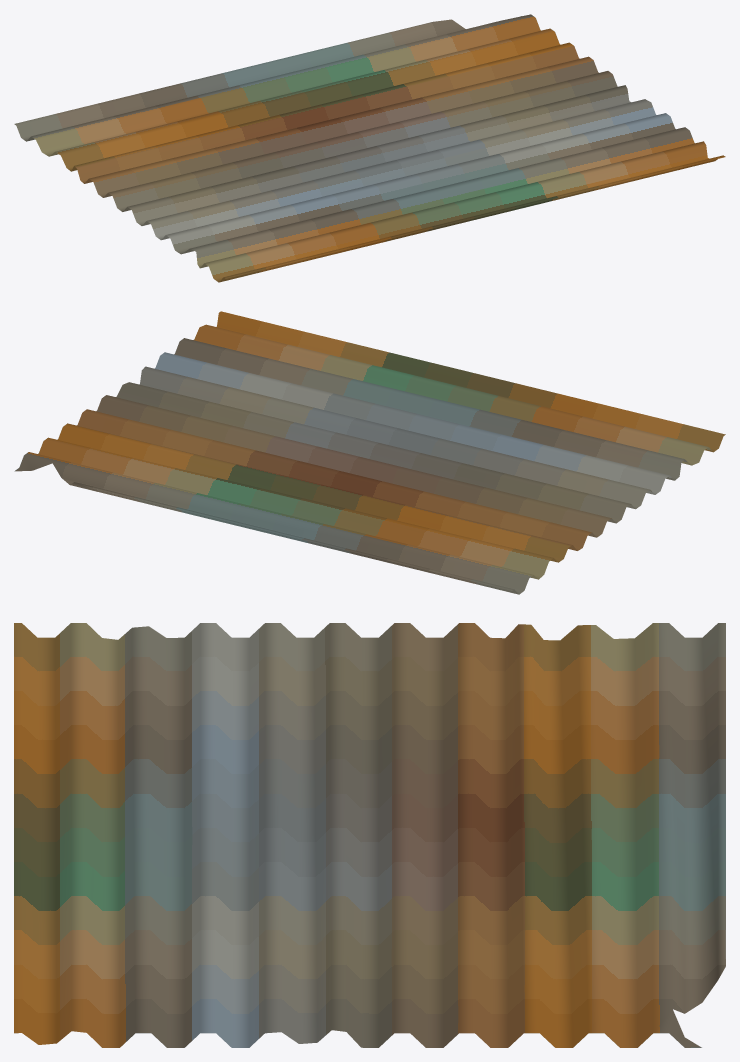
Rendered from SM_corrugated_metal_02.fbx.
The picture shows the model from 3 angles, top to bottom: view 1: azimuth 30°, elevation 25°; view 2: azimuth 150°, elevation 25°; view 3: azimuth 270°, elevation 25°; orthographic projection. The views are drawn at different scales.
Parts seen in each view (by area): view 1: SM_corrugated_metal_02_LOD0; view 2: SM_corrugated_metal_02_LOD0; view 3: SM_corrugated_metal_02_LOD0.
Part boxes in pixels (x1,y1,x2,y2): SM_corrugated_metal_02_LOD0: (14,14,725,282); SM_corrugated_metal_02_LOD0: (14,311,725,594); SM_corrugated_metal_02_LOD0: (14,623,725,1047).
Bounding box in the file's own units: 300 × 220 × 5.
